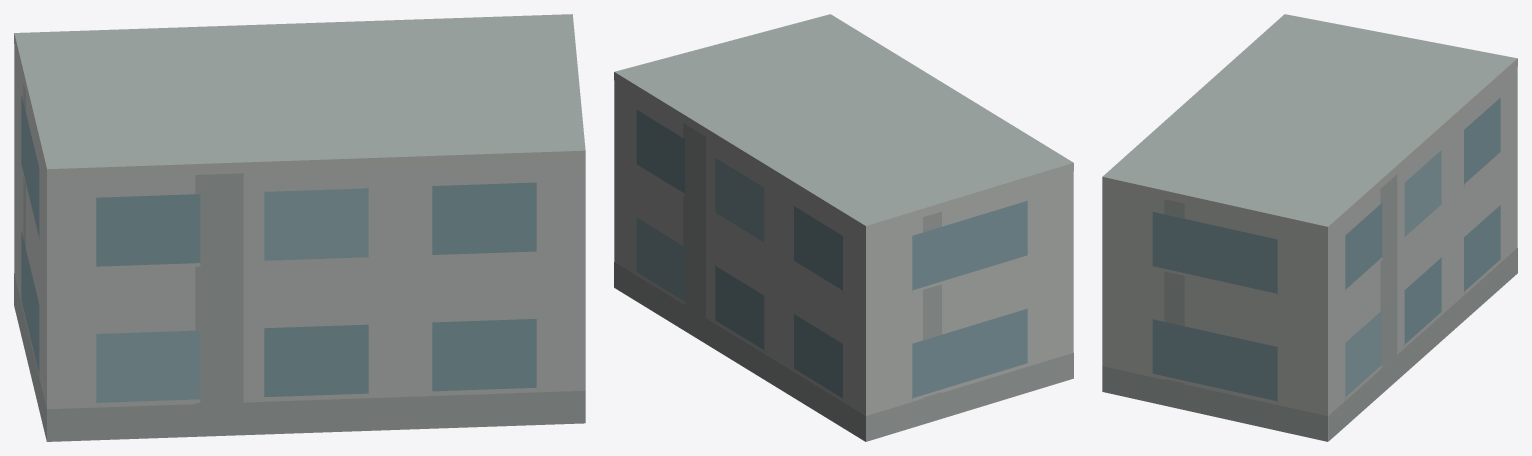
File: survey-upis-32746266.glb
3 views of the same model, side by side, from view 1: azimuth 30°, elevation 25°; view 2: azimuth 150°, elevation 25°; view 3: azimuth 270°, elevation 25° (orthographic). The views are drawn at different scales.
Visible parts, largest first — view 1: survey-upis-32746266.tmp; view 2: survey-upis-32746266.tmp; view 3: survey-upis-32746266.tmp.
Boxes of the visible parts, bbox=[...] form: survey-upis-32746266.tmp: bbox=[14, 14, 585, 441]; survey-upis-32746266.tmp: bbox=[614, 14, 1073, 441]; survey-upis-32746266.tmp: bbox=[1102, 14, 1517, 441].
Bounding box in the file's own units: 12.96 × 6.1 × 10.69.
